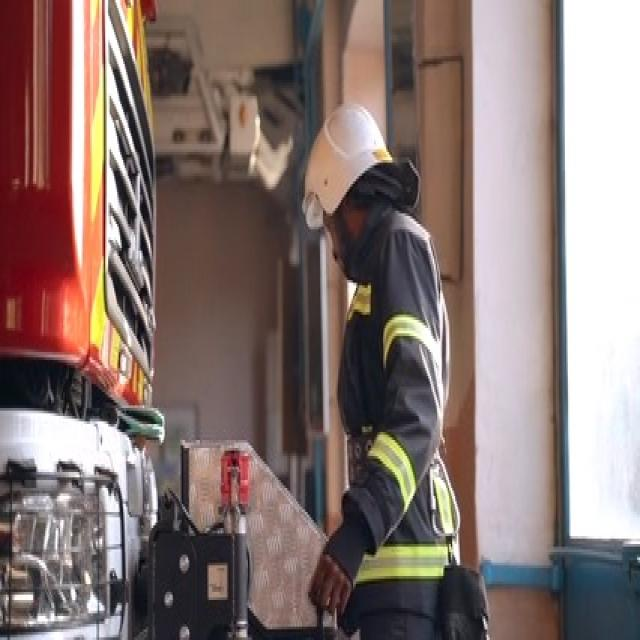Helmet_Wearer: (298, 84, 406, 254)
Jacket_Wearer: (327, 213, 450, 640)
Person: (293, 85, 453, 640)
